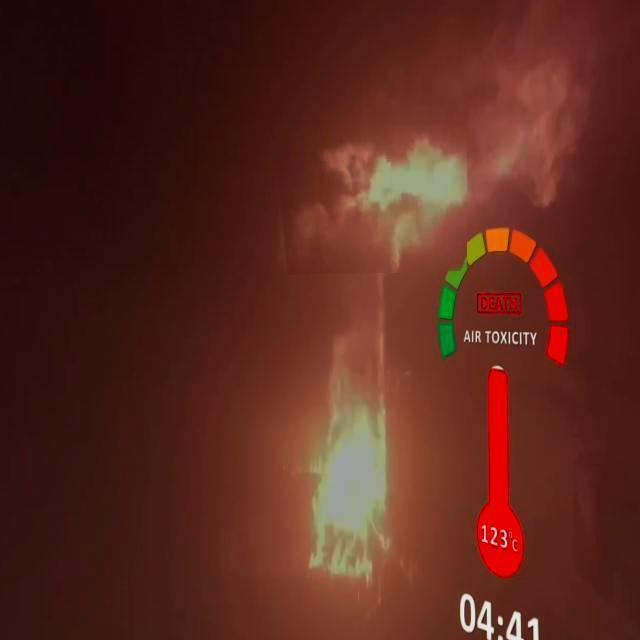smoke: (298, 382, 412, 586), (327, 125, 467, 263)
